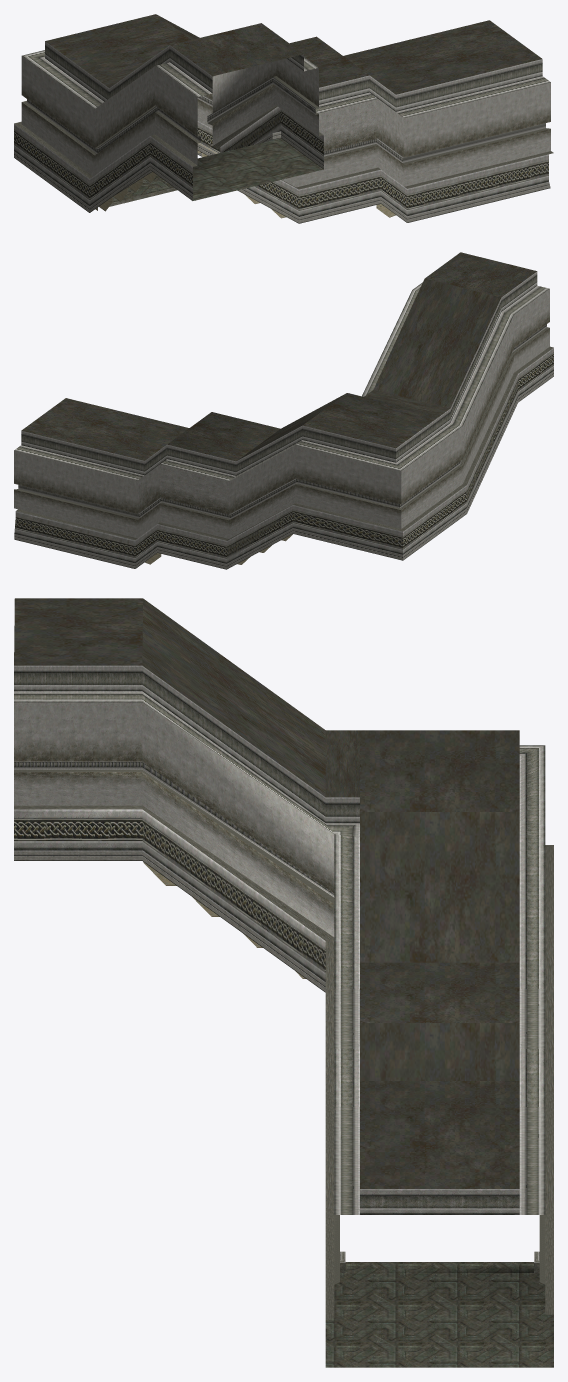
File: DWARF_PALACE_EREBOR_ROOMB.fbx
The picture shows the model from 3 angles, top to bottom: view 1: azimuth 30°, elevation 25°; view 2: azimuth 150°, elevation 25°; view 3: azimuth 270°, elevation 25°; orthographic projection. The views are drawn at different scales.
Parts seen in each view (by area): view 1: DWARF_PALACE_EREBOR_ROOMB; view 2: DWARF_PALACE_EREBOR_ROOMB; view 3: DWARF_PALACE_EREBOR_ROOMB.
Boxes of the visible parts, left/top/right/bottom form: DWARF_PALACE_EREBOR_ROOMB: left=14, top=14, right=553, bottom=223; DWARF_PALACE_EREBOR_ROOMB: left=14, top=252, right=553, bottom=569; DWARF_PALACE_EREBOR_ROOMB: left=14, top=598, right=553, bottom=1367.
Size of the model in its own units: 283220 by 172001 by 189322.
9 materials, 9 textured.
